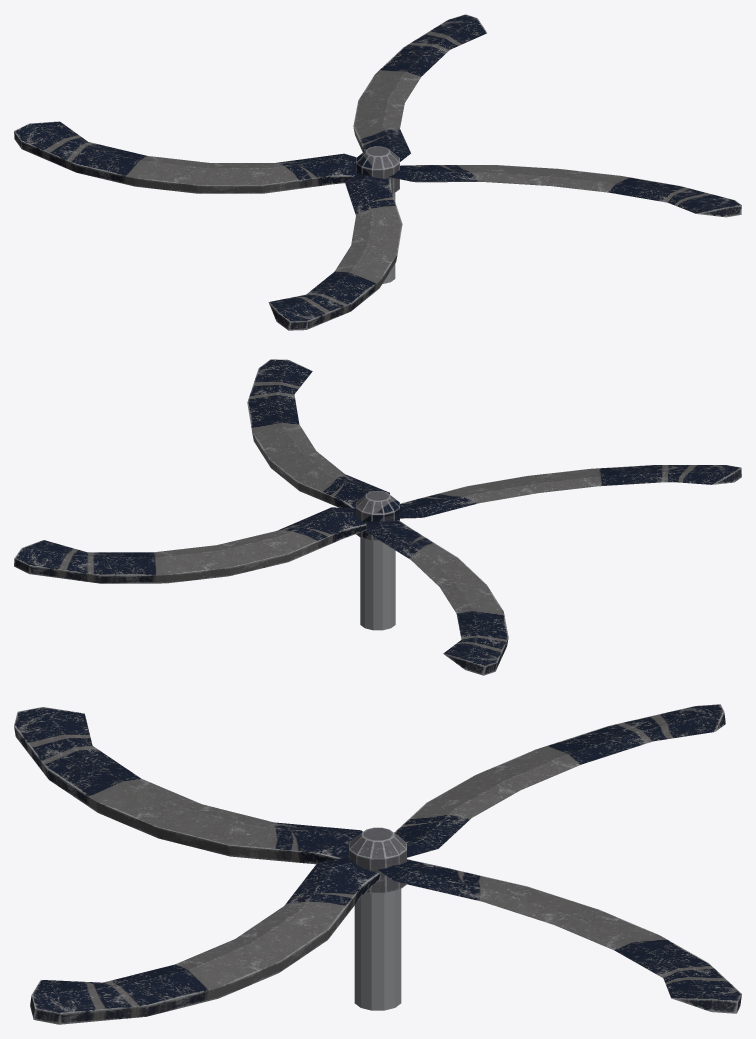
The model's file is propeller_m_3.fbx.
The picture shows the model from 3 angles, top to bottom: view 1: azimuth 30°, elevation 25°; view 2: azimuth 150°, elevation 25°; view 3: azimuth 270°, elevation 25°; orthographic projection. The views are drawn at different scales.
Visible parts, largest first — view 1: propeller_m_3; view 2: propeller_m_3; view 3: propeller_m_3.
Part boxes in pixels (x1=…): propeller_m_3: x1=14, y1=14, x2=741, y2=330; propeller_m_3: x1=14, y1=359, x2=741, y2=675; propeller_m_3: x1=14, y1=704, x2=741, y2=1024.
Bounding box in the file's own units: 14.21 × 3.59 × 14.21.
